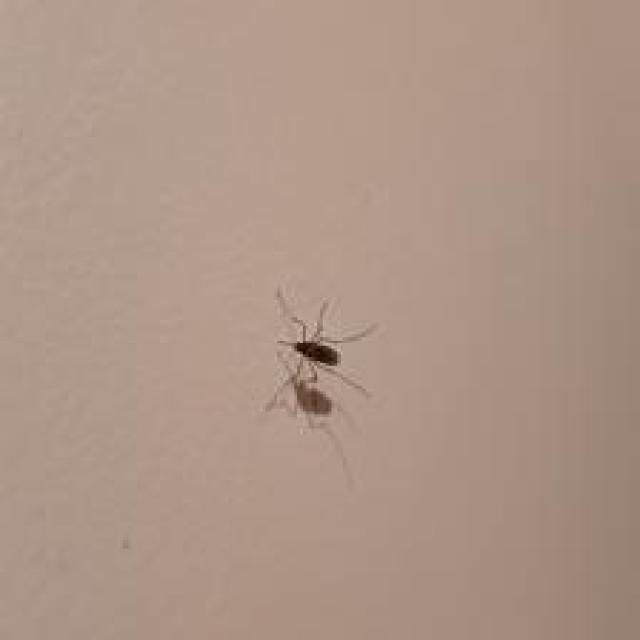Culex: (263, 284, 380, 487)
